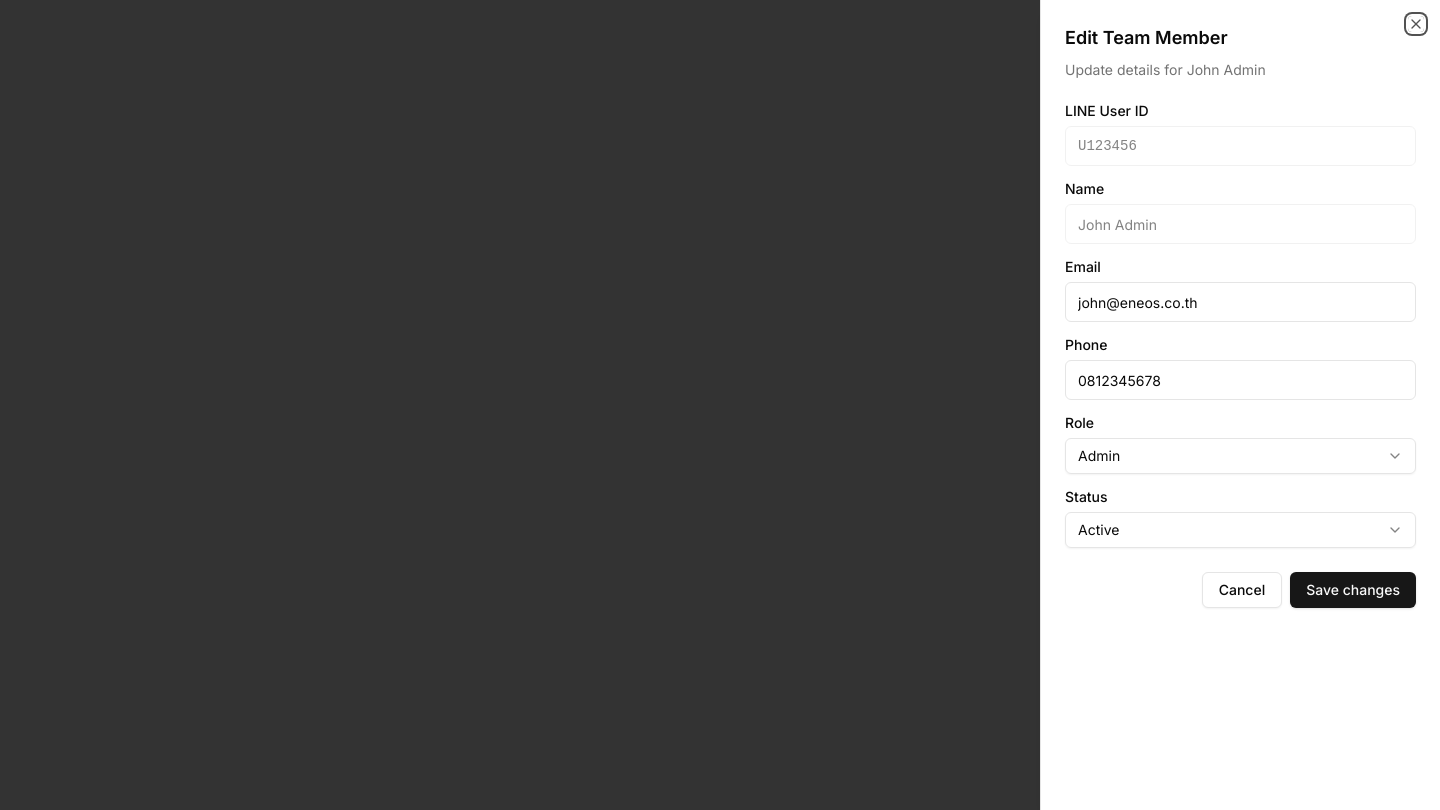
Test: TeamMemberEditModal Component › AC#8: Email validation (Story 13-1: any domain accepted) › should disable save button when email format is invalid
This screenshot has width=1440, height=810.
Replace the text in the field with test id "input-email" with "bad-format" at (1240, 302), box top-left (1065, 282), bottom-right (1416, 322)
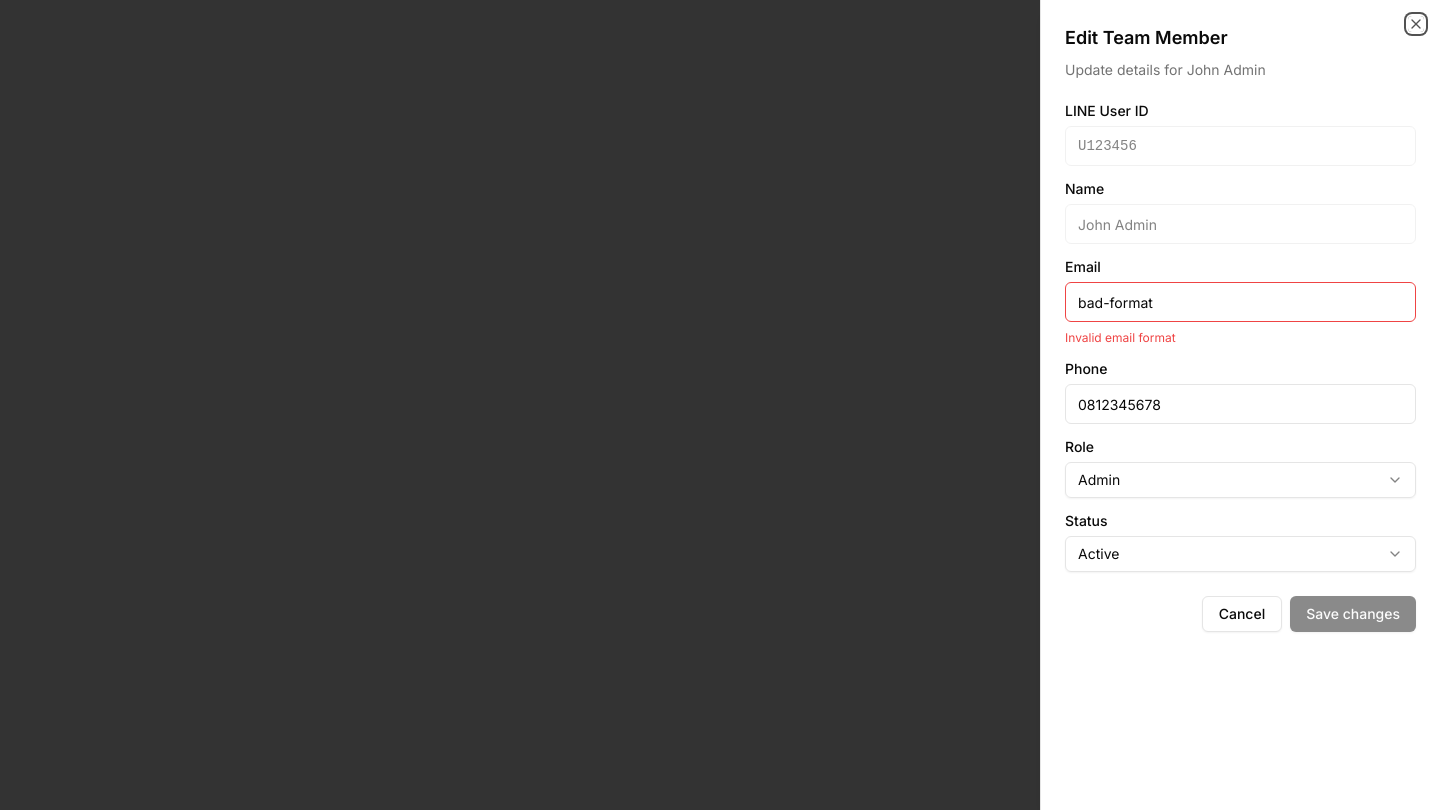
Check: the button with test id "save-btn" is disabled, box top-left (1290, 596), bottom-right (1416, 632)
